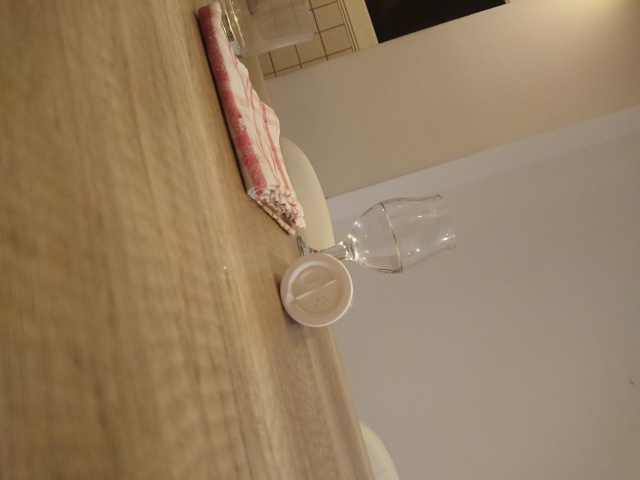Solana Pag Fine Sea Salt 250g: (277, 250, 355, 331)
